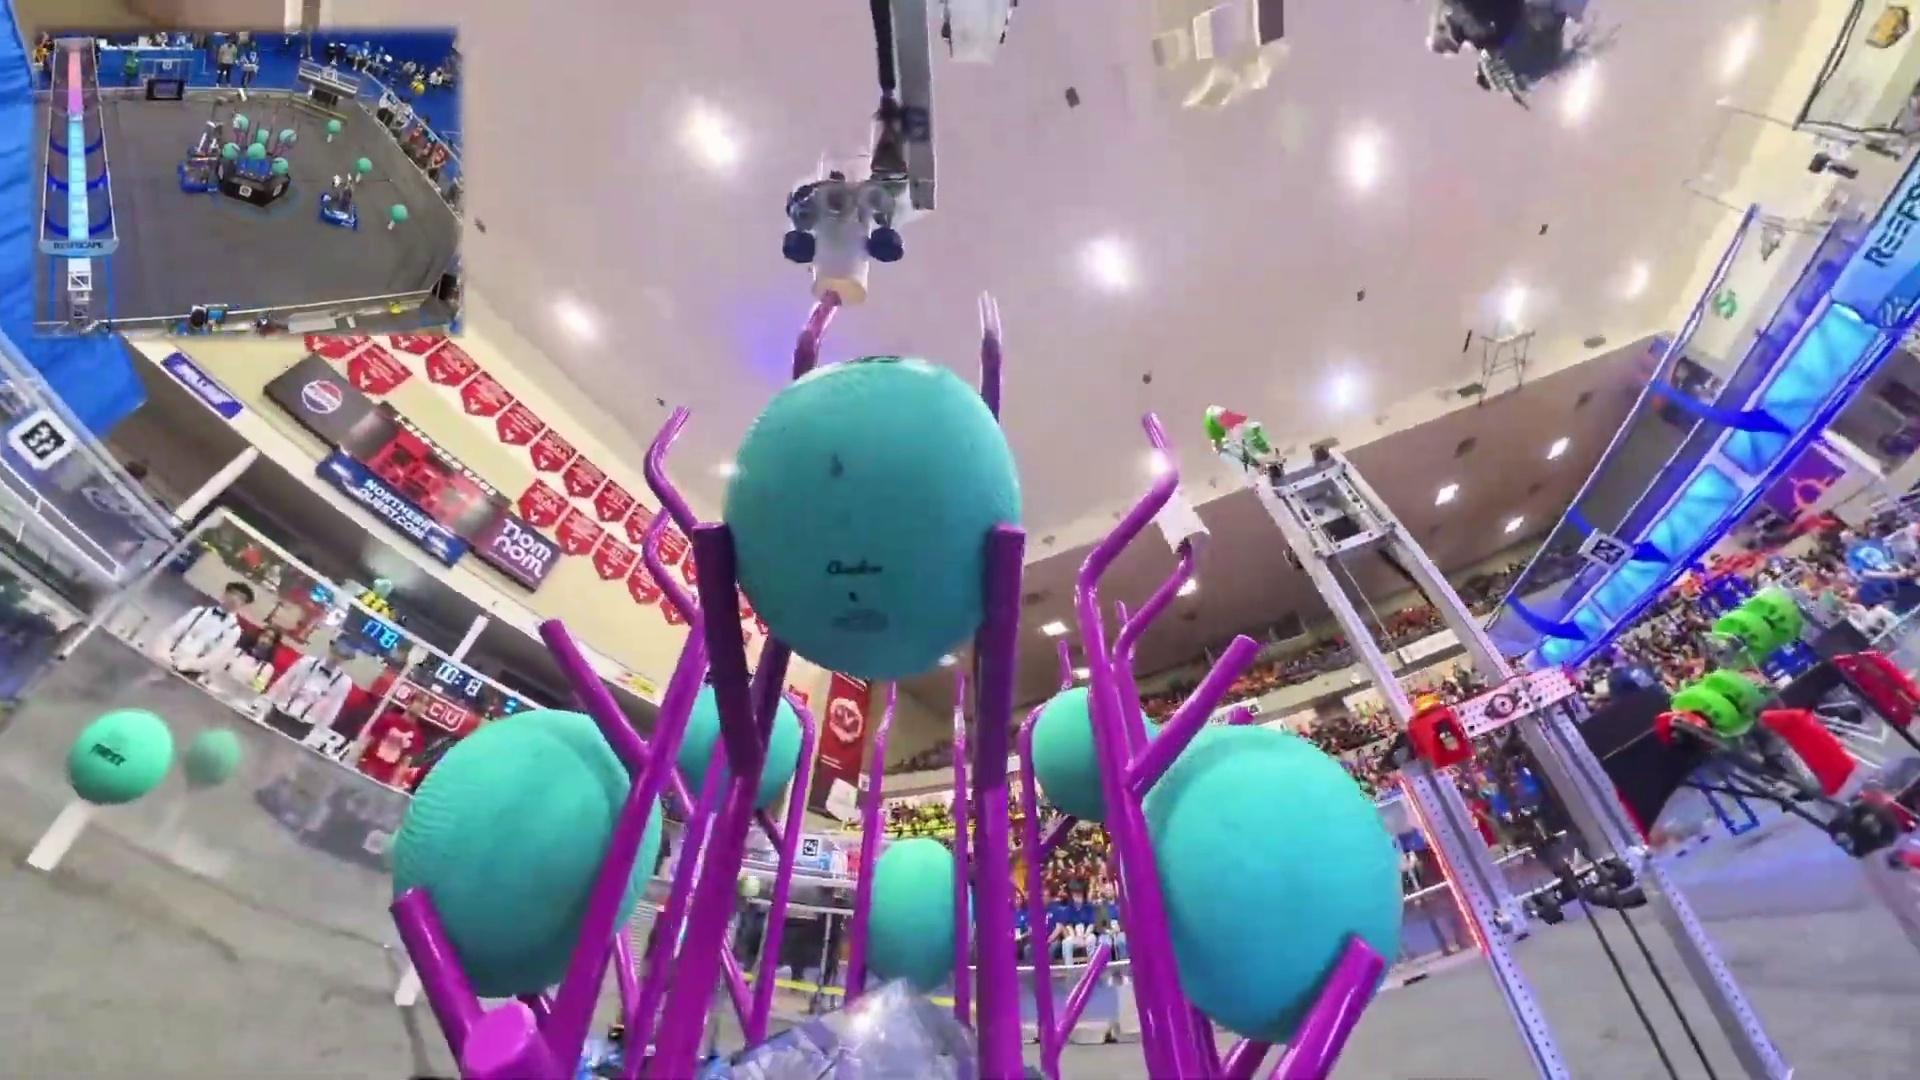robot: (177, 121, 219, 195), (189, 95, 225, 160), (319, 173, 360, 229)
